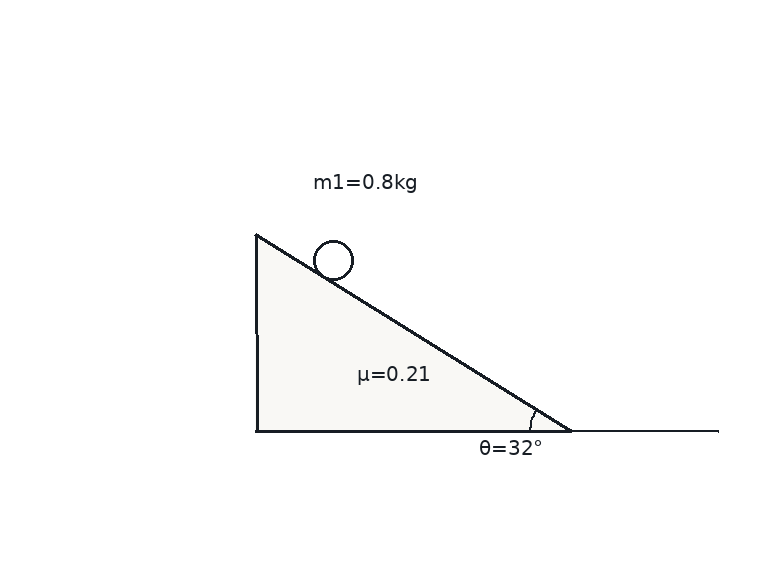ball: (311, 238, 355, 282)
ramp: (253, 232, 572, 433)
